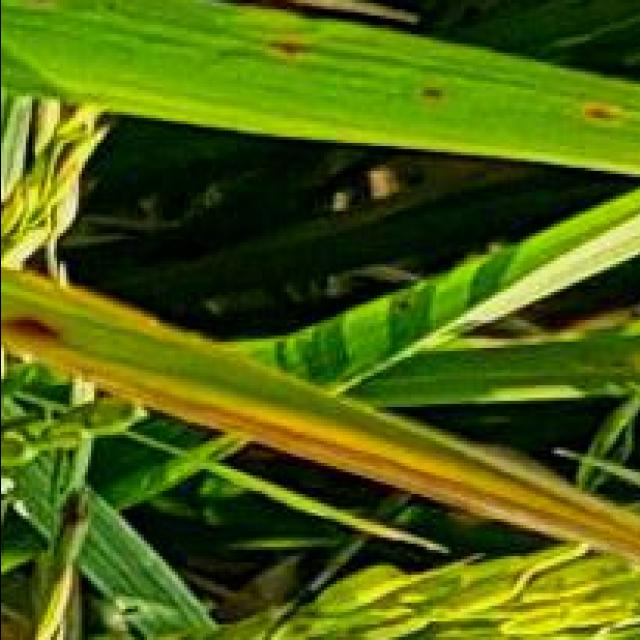Bacterial_Leaf_Blight: (81, 311, 640, 593)
